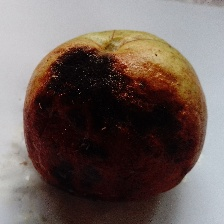guava: (39, 16, 199, 171)
